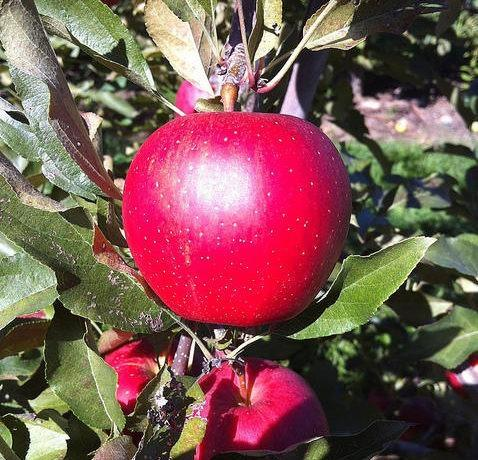apple: (121, 111, 350, 327), (187, 356, 330, 453)
